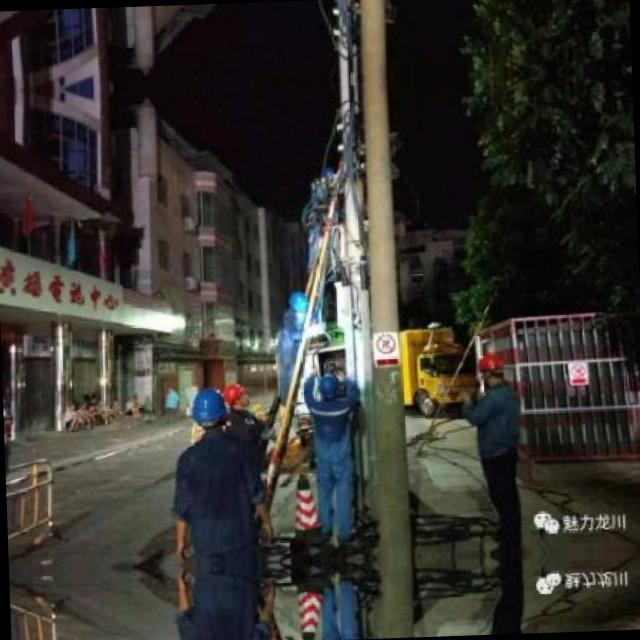helmet: (188, 387, 228, 433), (219, 379, 251, 409), (314, 371, 344, 403), (473, 352, 505, 382), (287, 286, 309, 316)
